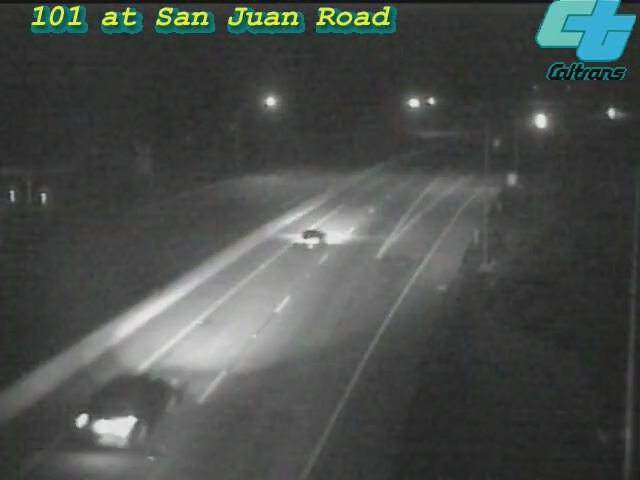vehicle: (75, 349, 185, 459), (272, 198, 352, 278), (514, 96, 564, 146), (585, 89, 635, 139), (593, 90, 640, 140)
